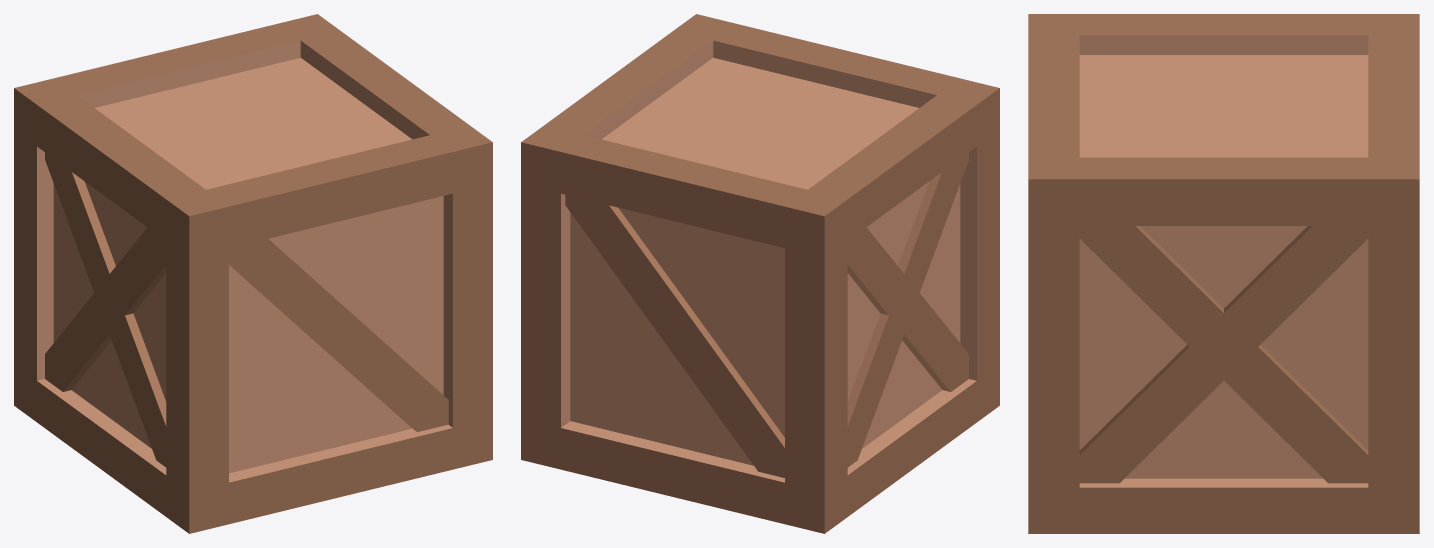
The model's file is woodbox.fbx.
The picture shows the model from 3 angles, left to right: view 1: azimuth 30°, elevation 25°; view 2: azimuth 150°, elevation 25°; view 3: azimuth 270°, elevation 25°; orthographic projection. The views are drawn at different scales.
Parts seen in each view (by area): view 1: Cube, Cube.003; view 2: Cube, Cube.003; view 3: Cube, Cube.003.
Part boxes in pixels (left/top/right/bottom): Cube: left=14, top=14, right=492, bottom=533; Cube.003: left=45, top=152, right=448, bottom=467; Cube: left=521, top=14, right=999, bottom=533; Cube.003: left=565, top=152, right=968, bottom=477; Cube: left=1028, top=14, right=1419, bottom=533; Cube.003: left=1079, top=226, right=1368, bottom=483.
Size of the model in its own units: 200 by 200 by 200.
